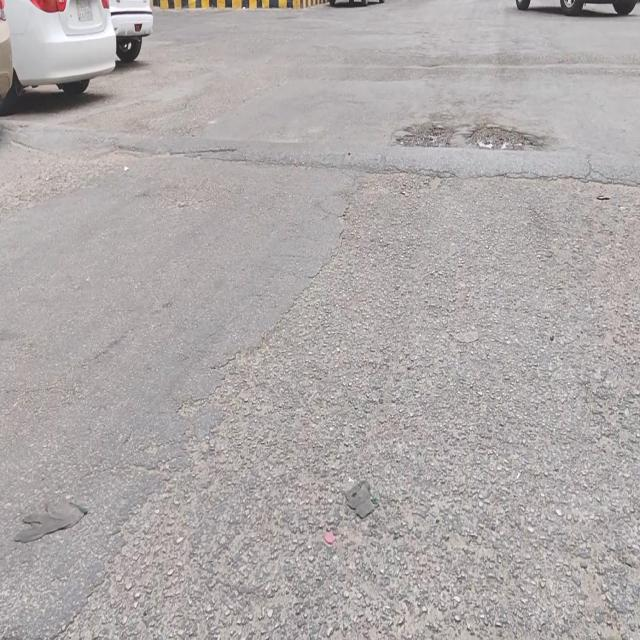Potholes: (467, 120, 536, 150), (397, 121, 452, 145)
